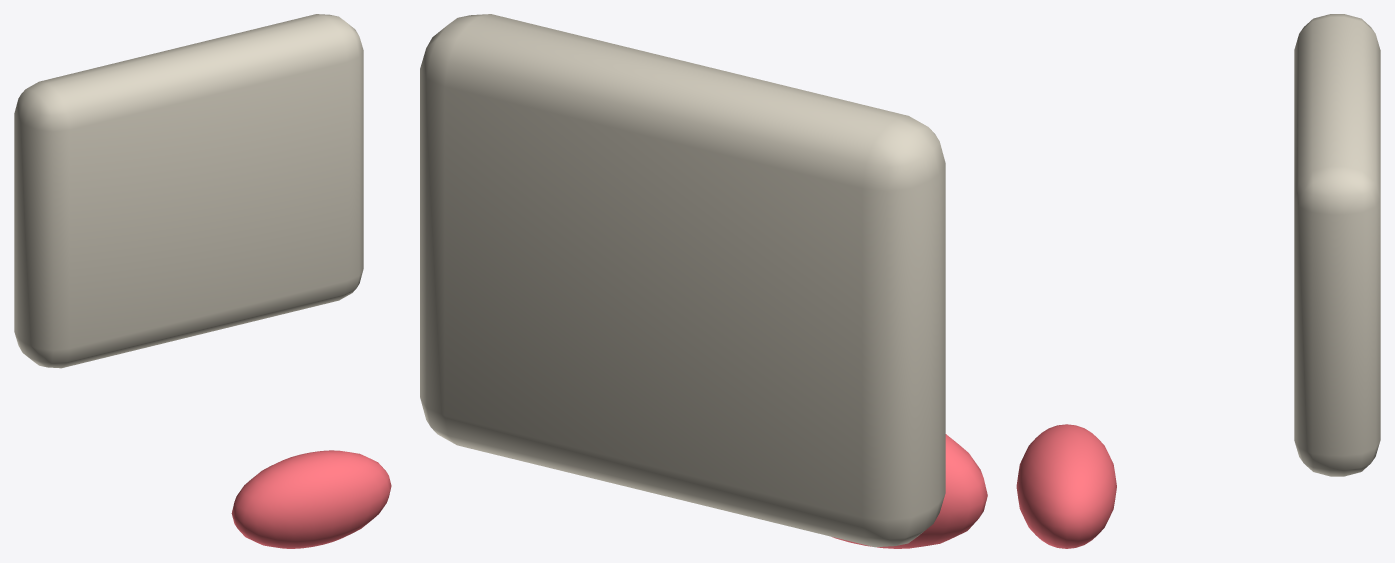
The model's file is TreatJarMoving_Premium.fbx.
The picture shows the model from 3 angles, left to right: view 1: azimuth 30°, elevation 25°; view 2: azimuth 150°, elevation 25°; view 3: azimuth 270°, elevation 25°; orthographic projection. The views are drawn at different scales.
Visible parts, largest first — view 1: TreatJar_Moving; view 2: TreatJar_Moving; view 3: TreatJar_Moving.
Boxes of the visible parts, x1,y1,x2,y2 form: TreatJar_Moving: (14, 14, 391, 548); TreatJar_Moving: (420, 14, 987, 548); TreatJar_Moving: (1016, 14, 1380, 548).
Size of the model in its own units: 0.2964 by 0.3392 by 0.2534.
